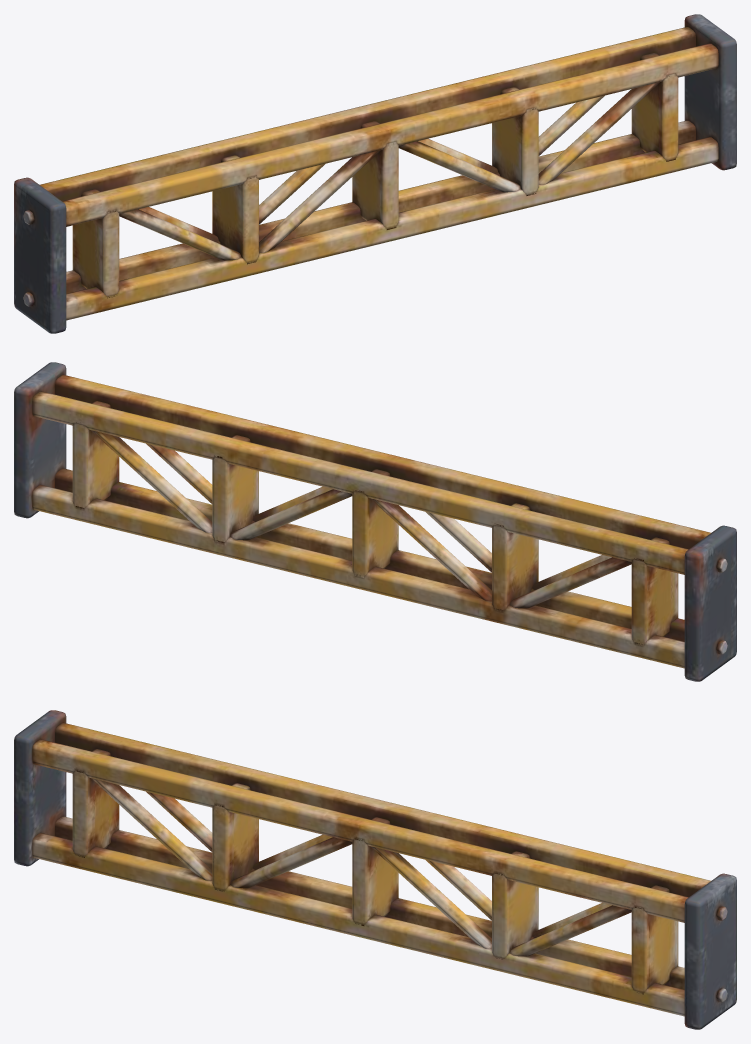
Rendered from girder_bit.glb.
3 views of the same model, one above another, from view 1: azimuth 30°, elevation 25°; view 2: azimuth 150°, elevation 25°; view 3: azimuth 330°, elevation 25° (orthographic).
Visible parts, largest first — view 1: body; view 2: body; view 3: body.
Part boxes in pixels (left/top/right/bottom): body: left=14, top=14, right=736, bottom=333; body: left=14, top=362, right=736, bottom=681; body: left=14, top=710, right=736, bottom=1029.
Size of the model in its own units: 1.25 by 0.22 by 0.12.
Materials: 1 (1 with a texture image).
